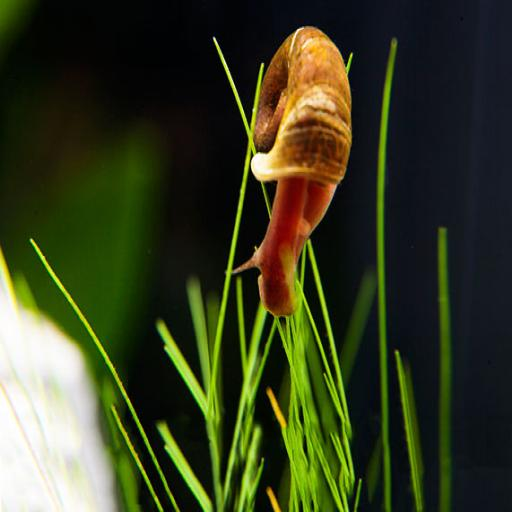Snail: (229, 14, 358, 322)
